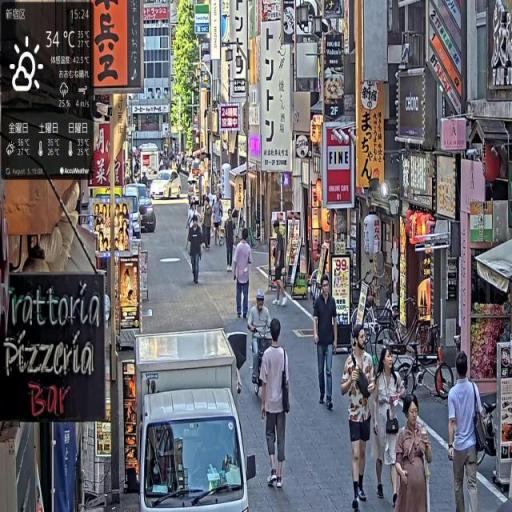person: (447, 350, 494, 512), (341, 328, 377, 512), (373, 346, 408, 509), (260, 318, 292, 490), (393, 395, 434, 512), (314, 276, 339, 412), (247, 289, 273, 399), (233, 230, 253, 323), (188, 216, 205, 288), (225, 210, 237, 274), (202, 201, 214, 252)
